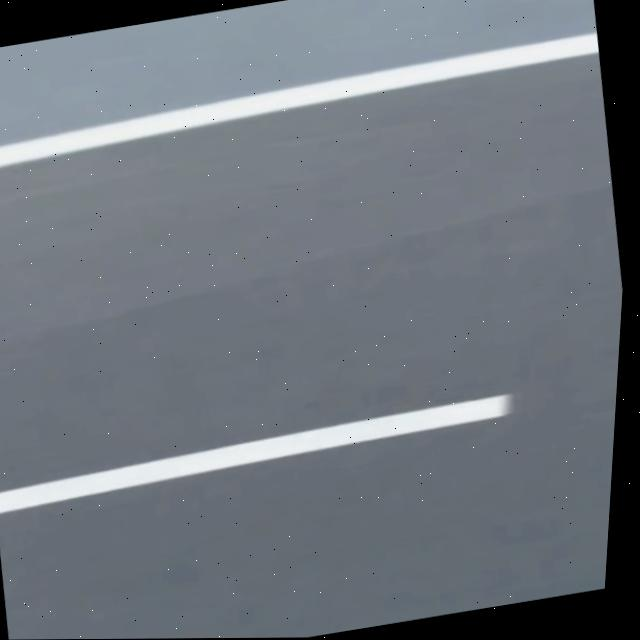center: (0, 393, 512, 511)
left: (0, 31, 599, 166)
